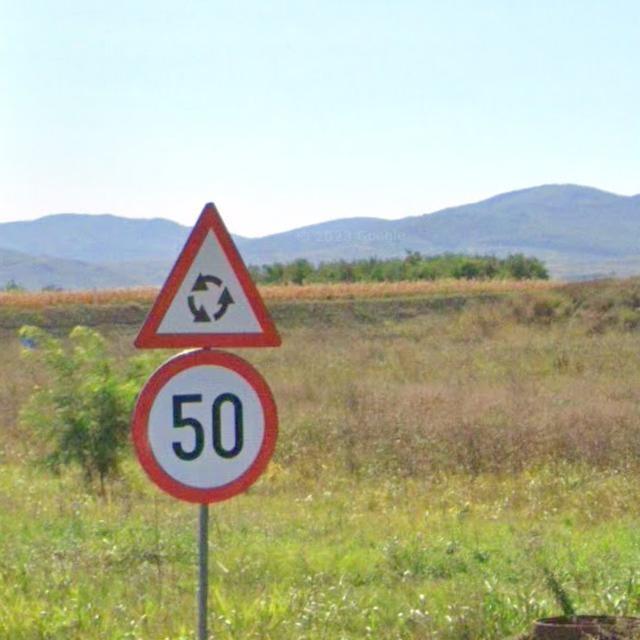forb_speed_over_50: (128, 348, 279, 504)
